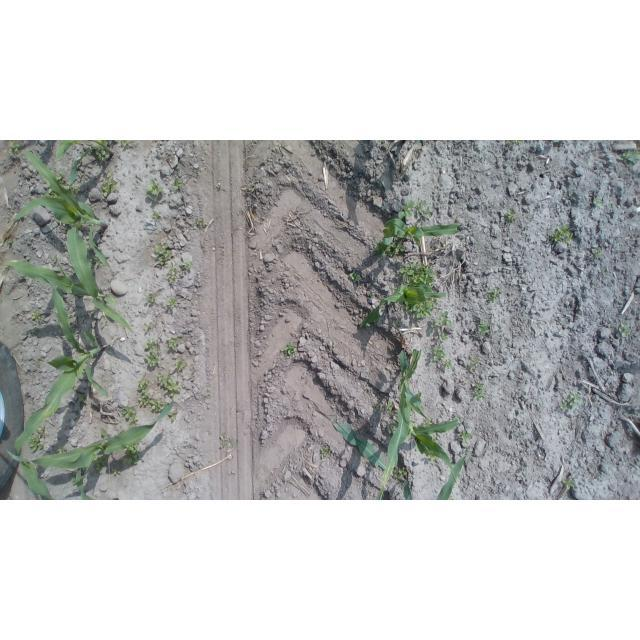Maize: (15, 274, 107, 455), (9, 149, 111, 297), (5, 403, 173, 473), (0, 259, 134, 334), (374, 349, 423, 499), (396, 412, 459, 485), (359, 284, 447, 327), (401, 454, 468, 500), (21, 463, 96, 500), (56, 140, 112, 184), (383, 220, 461, 245)
Weeds: (398, 262, 438, 286), (403, 297, 439, 319), (374, 238, 407, 259), (397, 200, 431, 220), (55, 173, 81, 198), (157, 372, 182, 397), (123, 443, 144, 468), (143, 340, 161, 369), (145, 178, 163, 205), (432, 347, 453, 369), (618, 146, 640, 167), (551, 223, 574, 243), (101, 171, 118, 197), (154, 242, 174, 264), (137, 379, 152, 406), (122, 406, 141, 427), (96, 141, 111, 164), (431, 312, 452, 328), (150, 396, 171, 412), (93, 453, 107, 475), (560, 394, 580, 409), (28, 435, 44, 453), (168, 264, 180, 284), (619, 324, 634, 340), (281, 342, 296, 357), (8, 141, 21, 158), (469, 358, 481, 376), (477, 321, 491, 336), (474, 383, 485, 402), (487, 288, 501, 302), (174, 356, 188, 370), (504, 208, 516, 224), (113, 140, 136, 148), (393, 467, 407, 480), (460, 429, 473, 443), (89, 252, 102, 266), (562, 478, 576, 490), (168, 335, 180, 349), (31, 310, 44, 322), (349, 272, 362, 283), (44, 188, 58, 198), (320, 445, 330, 459), (388, 421, 398, 435), (424, 453, 439, 462), (144, 293, 157, 303), (384, 401, 395, 412), (166, 296, 176, 308), (180, 261, 193, 270), (172, 179, 182, 190), (438, 331, 448, 342), (77, 393, 86, 404), (57, 446, 68, 454), (196, 219, 208, 226), (112, 467, 121, 476), (592, 249, 600, 259), (100, 428, 108, 438), (168, 410, 176, 420), (151, 210, 160, 218), (372, 404, 380, 413), (144, 322, 153, 330), (36, 426, 44, 435), (83, 182, 90, 192), (422, 419, 432, 426), (507, 140, 524, 144), (392, 320, 400, 328), (369, 292, 376, 301), (32, 327, 41, 334), (220, 435, 228, 442), (51, 256, 57, 265), (36, 357, 45, 363), (595, 198, 603, 204), (410, 140, 420, 144), (568, 190, 574, 196), (72, 476, 76, 485), (8, 237, 13, 243), (564, 313, 570, 318), (204, 393, 208, 400), (552, 140, 560, 142), (247, 188, 252, 191)
